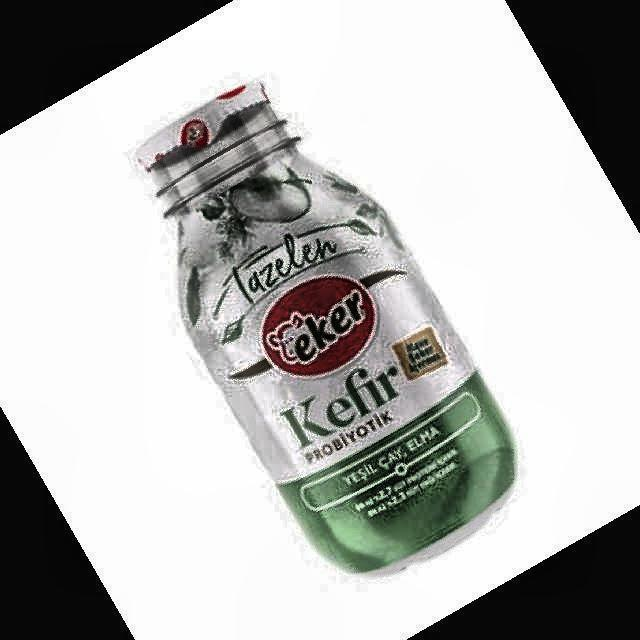plastic: (139, 82, 516, 572)
